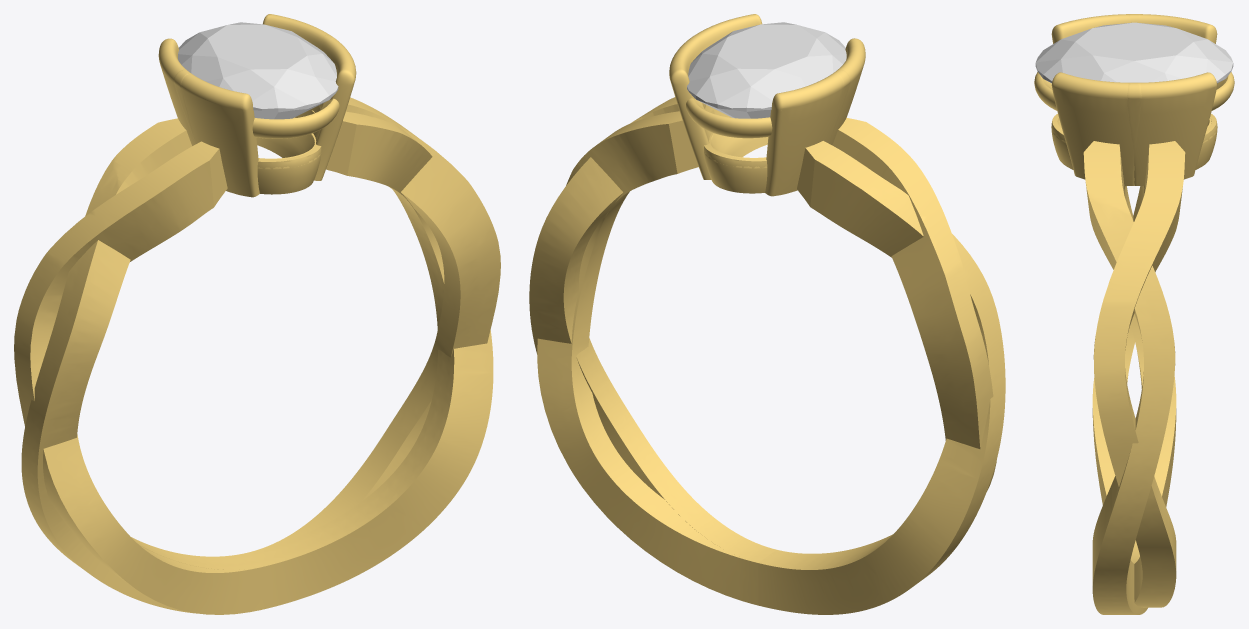
The model's file is diamond-oval-yellowgold-halfmoonbezel-twist-nosidestones.glb.
3 views of the same model, side by side, from view 1: azimuth 30°, elevation 25°; view 2: azimuth 150°, elevation 25°; view 3: azimuth 270°, elevation 25° (orthographic).
Parts seen in each view (by area): view 1: metal.003, stone; view 2: metal.003, stone; view 3: metal.003, stone.
Part boxes in pixels (box(x1,y1,x2,y2)): metal.003: box(14, 14, 500, 614); stone: box(178, 22, 338, 119); metal.003: box(529, 14, 1005, 614); stone: box(687, 22, 846, 118); metal.003: box(1034, 14, 1234, 614); stone: box(1035, 22, 1233, 83).
Bounding box in the file's own units: 19.97 × 23.31 × 7.75.
